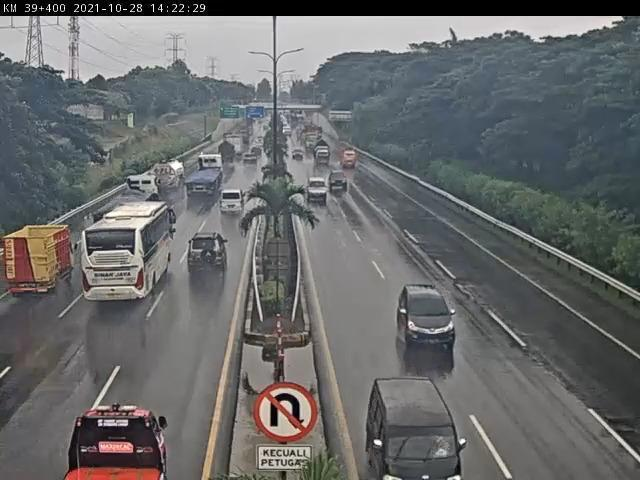bus: (81, 202, 179, 305)
car: (367, 380, 462, 480), (398, 282, 460, 354), (186, 230, 229, 274), (219, 188, 248, 218), (305, 178, 330, 205), (329, 170, 349, 193)
truck: (64, 404, 172, 480), (5, 225, 74, 299), (80, 176, 155, 228), (147, 159, 188, 195), (187, 154, 223, 194)
